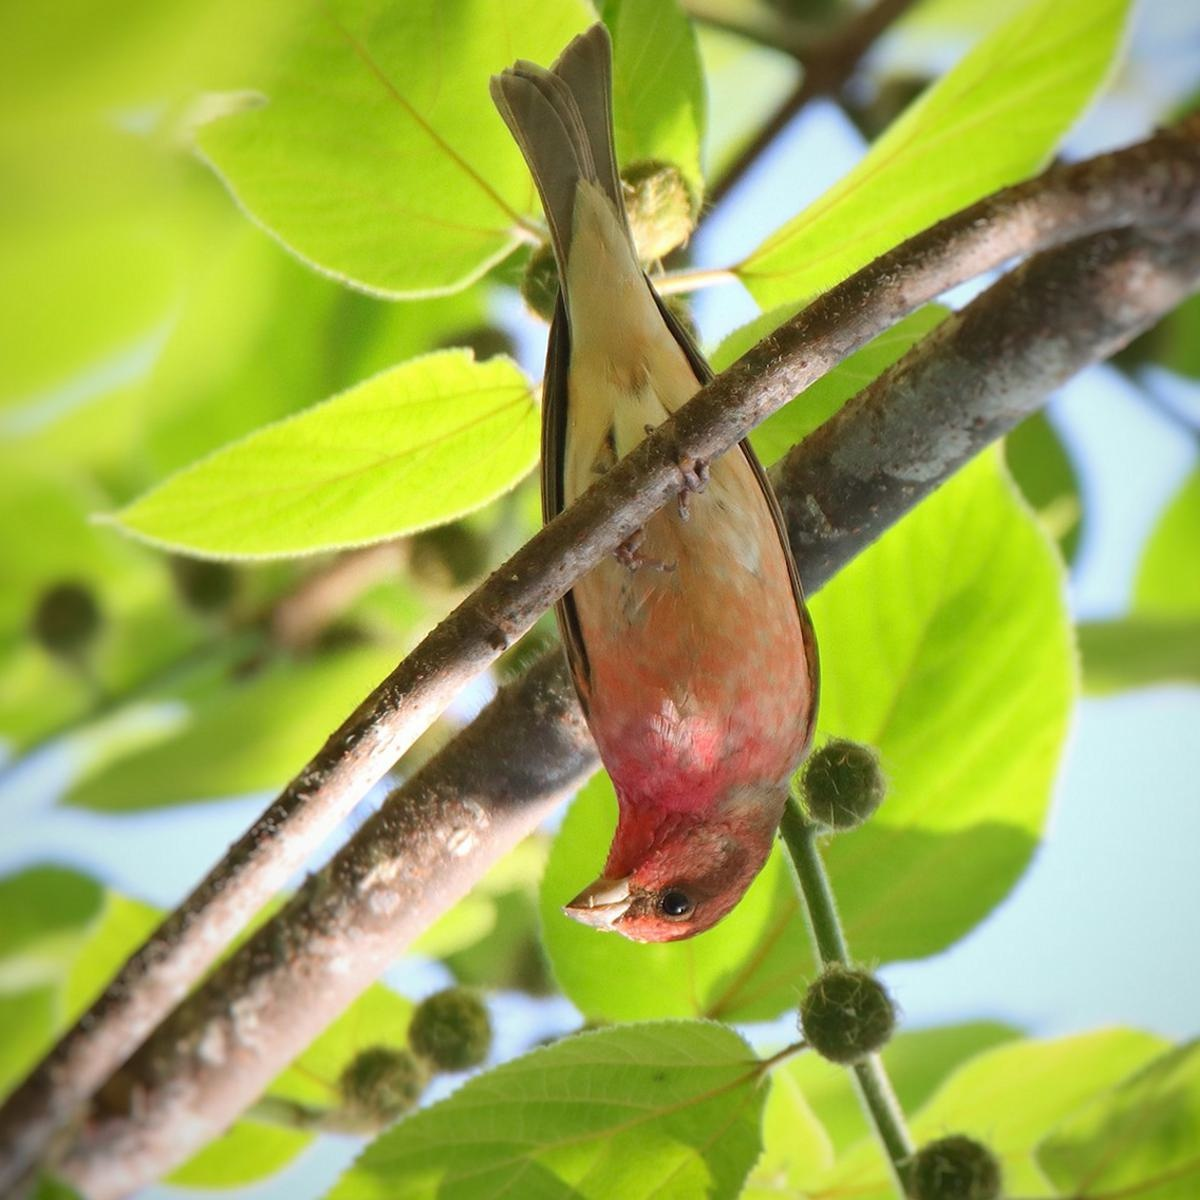rosefinch: (542, 178, 814, 976)
